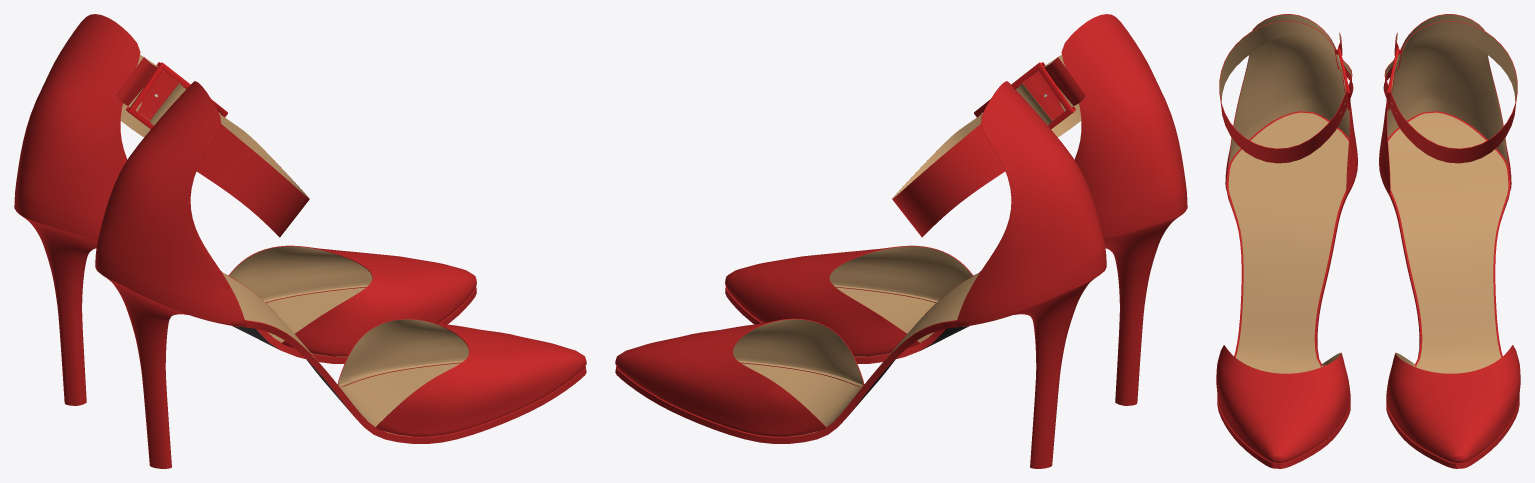
The model's file is heels_4.glb.
3 renders of one model, left to right at view 1: azimuth 30°, elevation 25°; view 2: azimuth 150°, elevation 25°; view 3: azimuth 270°, elevation 25°, orthographic. The views are drawn at different scales.
Visible parts, largest first — view 1: Shoe_-_Left.001_Plane.016, Shoe_-_Left_Plane.010; view 2: Shoe_-_Left_Plane.010, Shoe_-_Left.001_Plane.016; view 3: Shoe_-_Left_Plane.010, Shoe_-_Left.001_Plane.016.
Boxes of the visible parts, <box> form: Shoe_-_Left.001_Plane.016: <box>95,81,586,468</box>; Shoe_-_Left_Plane.010: <box>14,14,476,405</box>; Shoe_-_Left_Plane.010: <box>615,81,1106,468</box>; Shoe_-_Left.001_Plane.016: <box>725,14,1187,405</box>; Shoe_-_Left_Plane.010: <box>1379,14,1520,468</box>; Shoe_-_Left.001_Plane.016: <box>1216,14,1357,468</box>.
Size of the model in its own units: 3.95 by 2.99 by 2.69.
